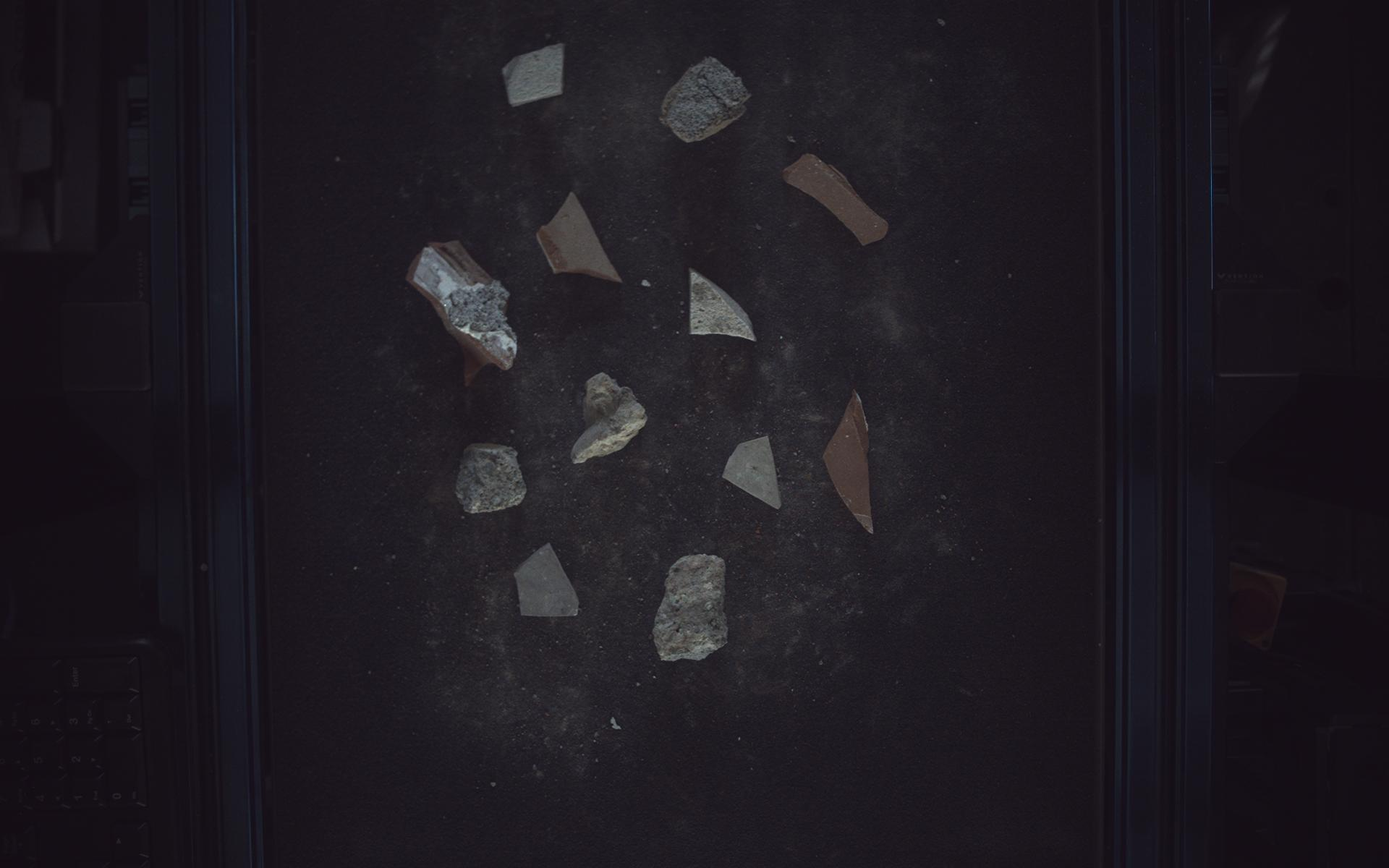brick: (407, 240, 517, 385), (783, 153, 890, 244), (537, 192, 622, 282), (825, 391, 875, 534)
concrete: (654, 555, 729, 663), (662, 56, 752, 142), (572, 373, 647, 464), (456, 443, 527, 514)
tile: (515, 545, 579, 618), (692, 268, 756, 341), (724, 437, 782, 509), (504, 42, 565, 106)
